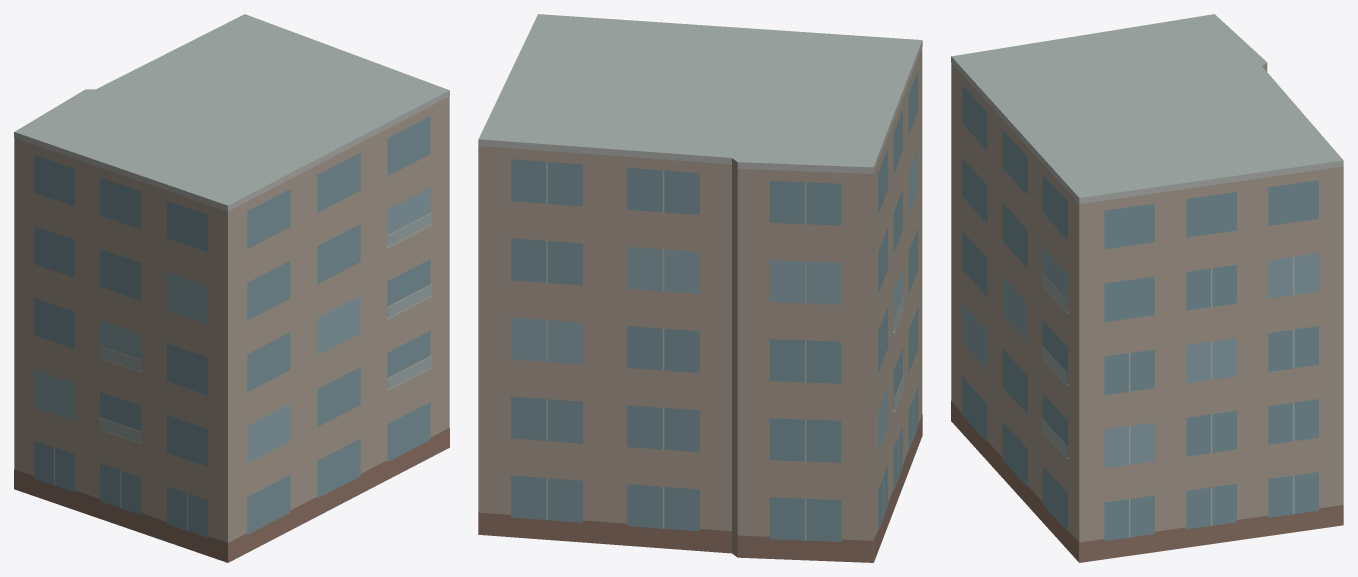
File: survey-upis-32953573.glb
The picture shows the model from 3 angles, left to right: view 1: azimuth 30°, elevation 25°; view 2: azimuth 150°, elevation 25°; view 3: azimuth 270°, elevation 25°; orthographic projection. The views are drawn at different scales.
Visible parts, largest first — view 1: survey-upis-32953573.tmp; view 2: survey-upis-32953573.tmp; view 3: survey-upis-32953573.tmp.
Boxes of the visible parts, x1,y1,x2,y2 form: survey-upis-32953573.tmp: [14, 14, 449, 562]; survey-upis-32953573.tmp: [478, 14, 922, 562]; survey-upis-32953573.tmp: [951, 14, 1343, 562].
Size of the model in its own units: 15.92 by 14.7 by 14.34.
